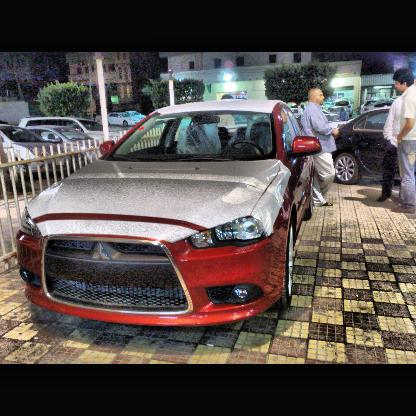Mitsubishi Lancer Sedan 2012: (17, 99, 323, 329)
